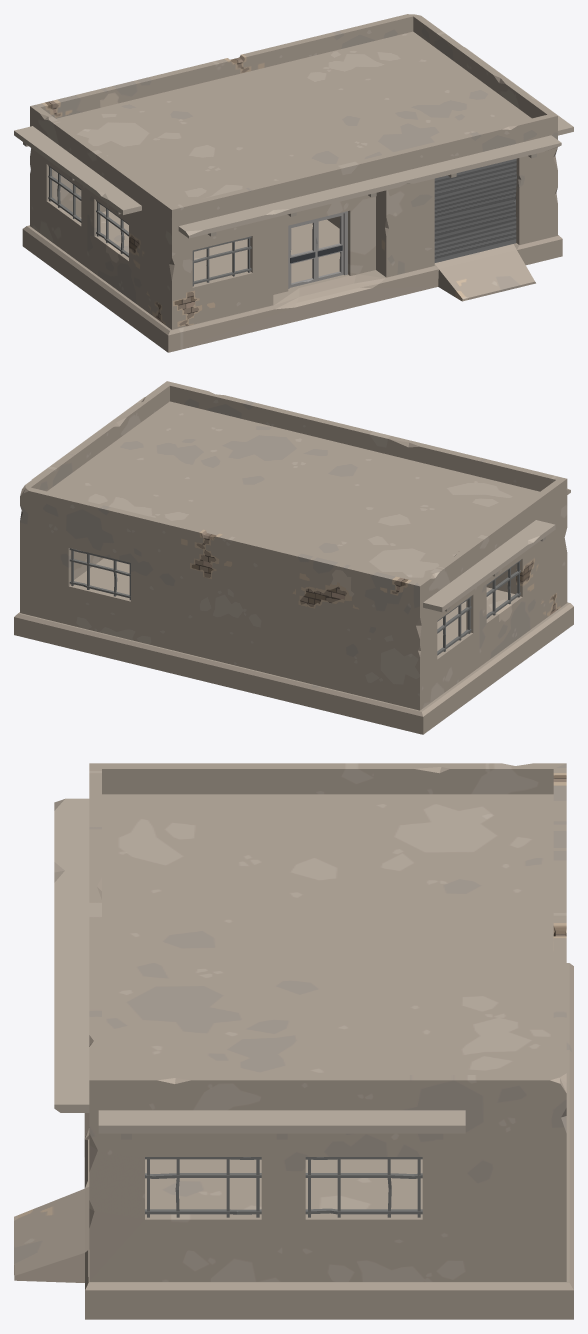
File: SM_Bld_GasStation_01.fbx
3 renders of one model, top to bottom at view 1: azimuth 30°, elevation 25°; view 2: azimuth 150°, elevation 25°; view 3: azimuth 270°, elevation 25°, orthographic. The views are drawn at different scales.
Visible parts, largest first — view 1: SM_Bld_GasStation_01, SM_Bld_GasStation_GarageDoor_01, SM_Bld_GasStation_Door_01, SM_Bld_GasStation_Door_02; view 2: SM_Bld_GasStation_01; view 3: SM_Bld_GasStation_01.
Boxes of the visible parts, box(x1,y1,x2,y2) form: SM_Bld_GasStation_01: box(14, 14, 573, 352); SM_Bld_GasStation_GarageDoor_01: box(434, 158, 516, 262); SM_Bld_GasStation_Door_01: box(289, 220, 316, 287); SM_Bld_GasStation_Door_02: box(316, 213, 343, 281); SM_Bld_GasStation_01: box(14, 381, 573, 734); SM_Bld_GasStation_01: box(14, 763, 573, 1319).
Bounding box in the file's own units: 1587 × 503 × 1080.
